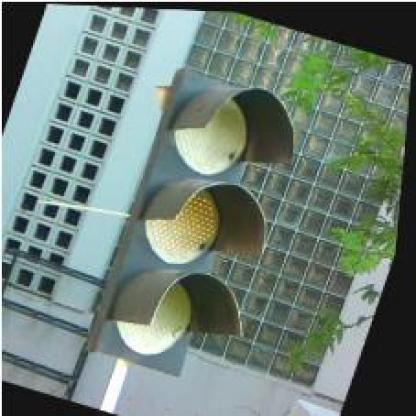yellow: (86, 62, 317, 392)
